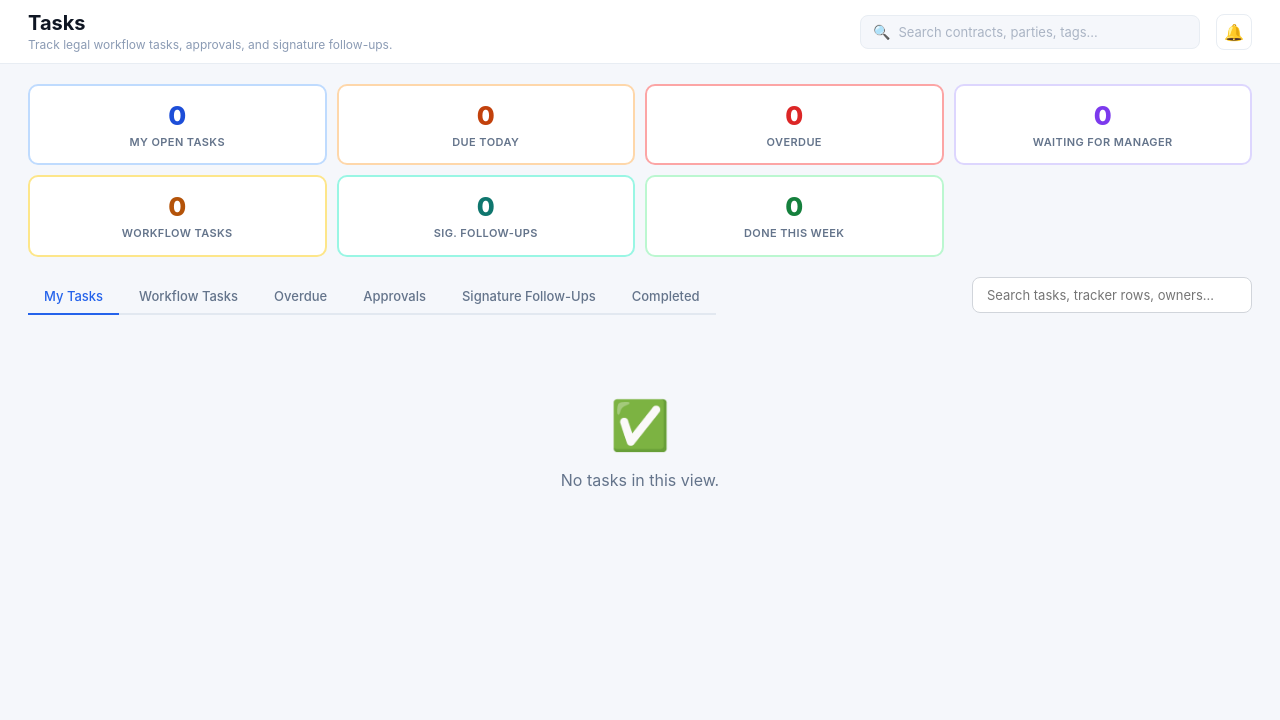
Test: (tf-7) Completed tab shows completed tracker and manual items
Click the button "Completed" at (666, 297), box [616,279,716,315]
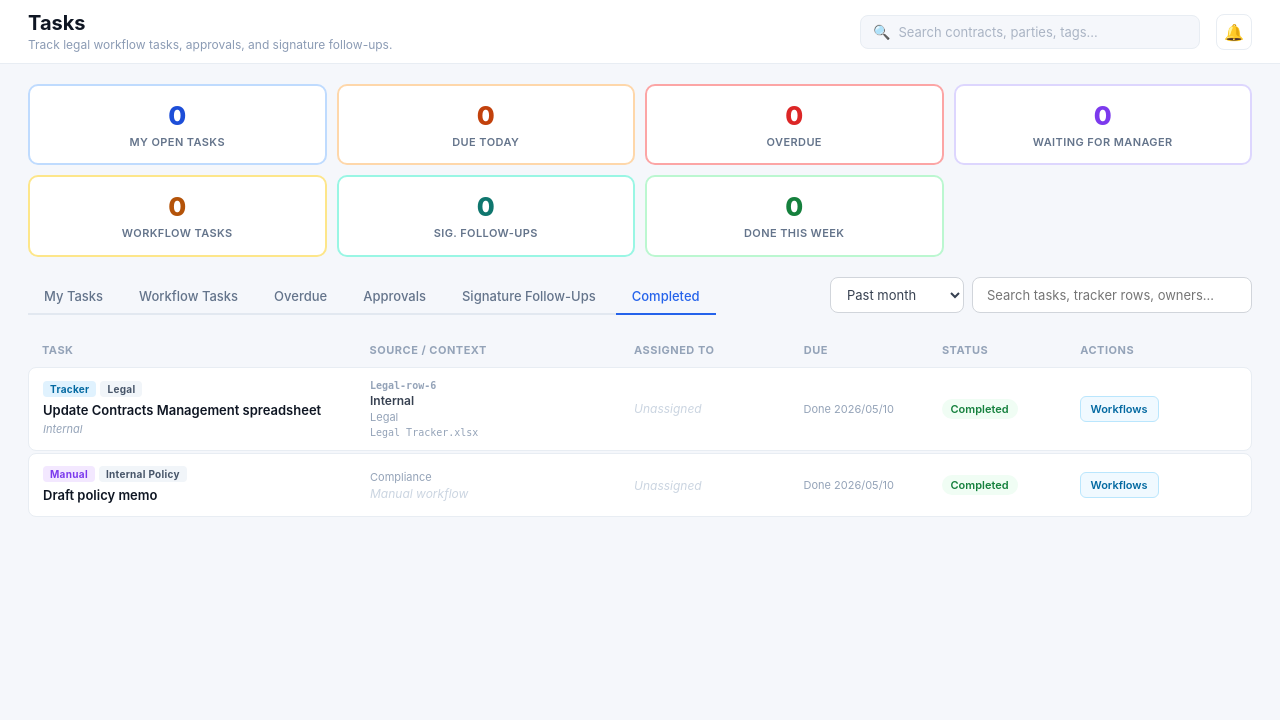
Expected: the number of elements with class "tl__row" is 2, [28,367,1252,451]; [28,453,1252,517]
